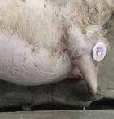text: (88, 38, 113, 64)
